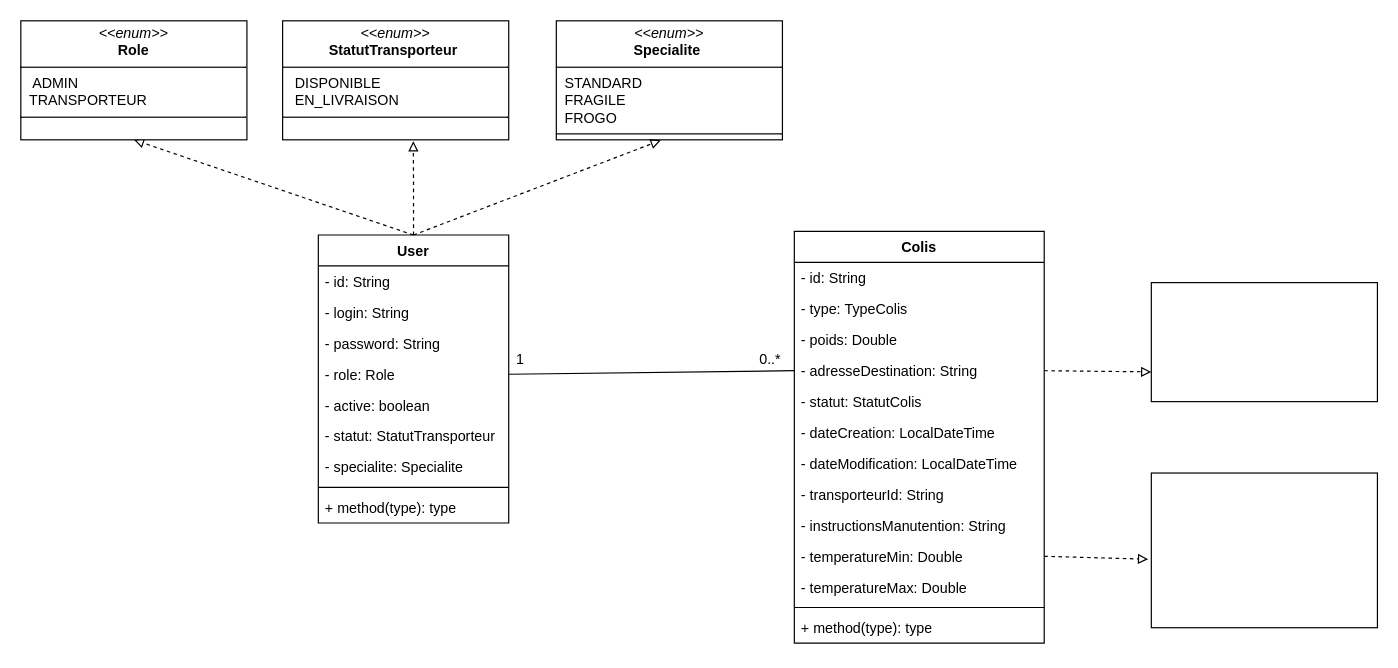
Some shapes in this 1398 by 668 pixel diagram are drawn without their labels. Each missing label, with the centre of its shape:
"<<enum>> StatutColis EN_ATTENTE EN_TRANSIT LIVRE ANNULE" belongs at pixel 1263 550.
"<<enum>> TypeColis STANDARD FRAGILE FROGO" belongs at pixel 1263 341.
